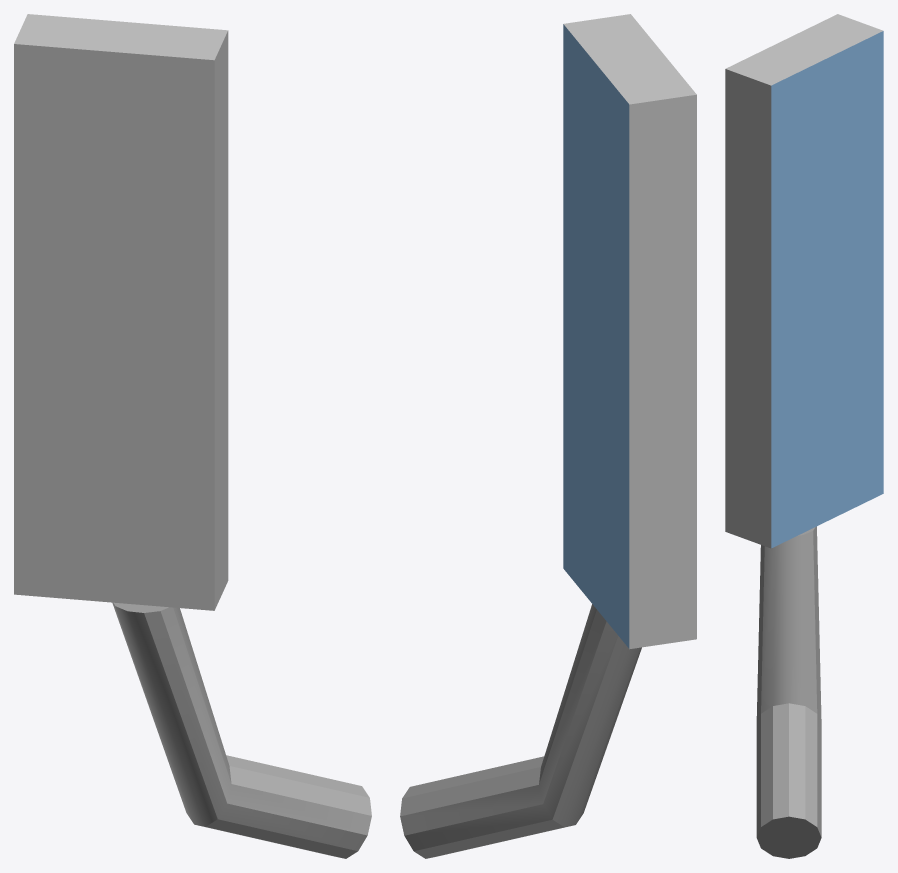
Rendered from rightMirror.fbx.
3 views of the same model, side by side, from view 1: azimuth 30°, elevation 25°; view 2: azimuth 150°, elevation 25°; view 3: azimuth 270°, elevation 25° (orthographic). The views are drawn at different scales.
Visible parts, largest first — view 1: pCube5, pCylinder9; view 2: pCube5, pCylinder9; view 3: pCube5, pCylinder9.
Boxes of the visible parts, bbox=[...] form: pCube5: bbox=[14, 14, 228, 610]; pCylinder9: bbox=[112, 602, 371, 858]; pCube5: bbox=[563, 14, 696, 649]; pCylinder9: bbox=[400, 604, 641, 858]; pCube5: bbox=[725, 14, 883, 548]; pCylinder9: bbox=[756, 526, 821, 858].
Size of the model in its own units: 3.93 by 10.14 by 2.01.
Materials: 2 (1 with a texture image).
